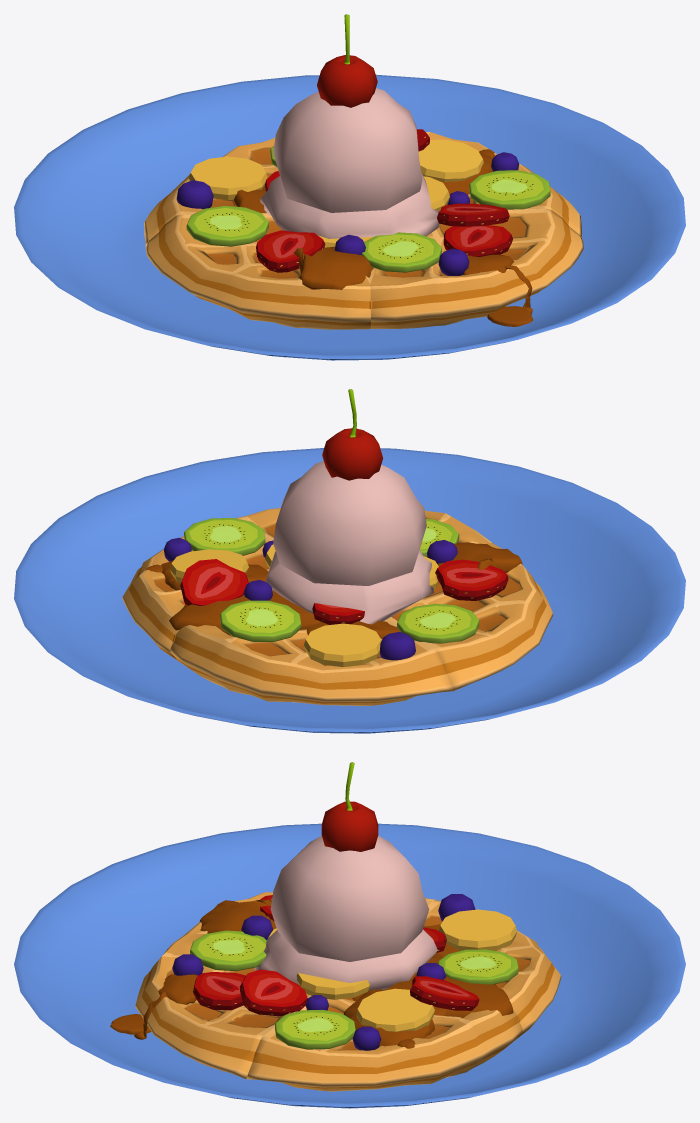
The picture shows the model from 3 angles, top to bottom: view 1: azimuth 30°, elevation 25°; view 2: azimuth 150°, elevation 25°; view 3: azimuth 270°, elevation 25°; orthographic projection.
Parts seen in each view (by area): view 1: Cylinder, WAFFLE, Dondurma, Kiraz, Circle.001, Circle.002, Circle.003, 8.003, Cylinder.001, Cylinder.004, Circle.004, Circle.013 (+8 smaller); view 2: Cylinder, WAFFLE, Dondurma, Circle.007, Cylinder.001, Kiraz, Circle.001, Circle.005, Circle.002, Circle.004, 8.001, 8.003 (+6 smaller); view 3: Cylinder, WAFFLE, Dondurma, Circle.002, Kiraz, Cylinder.001, Cylinder.004, Circle.003, Circle.008, Circle.007, Circle.013, Circle.005 (+10 smaller).
Part boxes in pixels (x1,y1,x2,y2): Cylinder: (14,74,685,360); WAFFLE: (144,132,583,329); Dondurma: (260,88,439,238); Kiraz: (317,14,377,107); Circle.001: (186,205,268,246); Circle.002: (469,170,550,209); Circle.003: (361,232,441,272); 8.003: (293,246,373,290); Cylinder.001: (189,156,267,200); Cylinder.004: (418,139,483,182); Circle.004: (256,230,325,272); Circle.013: (443,225,512,256); Cylinder: (14,448,685,733); WAFFLE: (122,508,553,705); Dondurma: (265,461,434,624); Circle.007: (220,600,301,641); Cylinder.001: (304,623,381,666); Kiraz: (322,389,382,480); Circle.001: (397,603,479,643); Circle.005: (180,559,248,605); Circle.002: (184,518,265,555); Circle.004: (435,559,508,600); 8.001: (169,590,320,635); 8.003: (437,542,522,572); Cylinder: (14,823,685,1108); WAFFLE: (135,892,561,1091); Dondurma: (254,835,437,990); Circle.002: (275,1009,355,1049); Kiraz: (321,762,378,851); Cylinder.001: (438,909,517,950); Cylinder.004: (356,988,434,1032); Circle.003: (190,930,266,971); Circle.008: (239,969,307,1016); Circle.007: (437,949,518,984); Circle.013: (193,972,245,1010); Circle.005: (410,976,479,1010).
Bounding box in the file's own units: 423 × 169 × 423.
